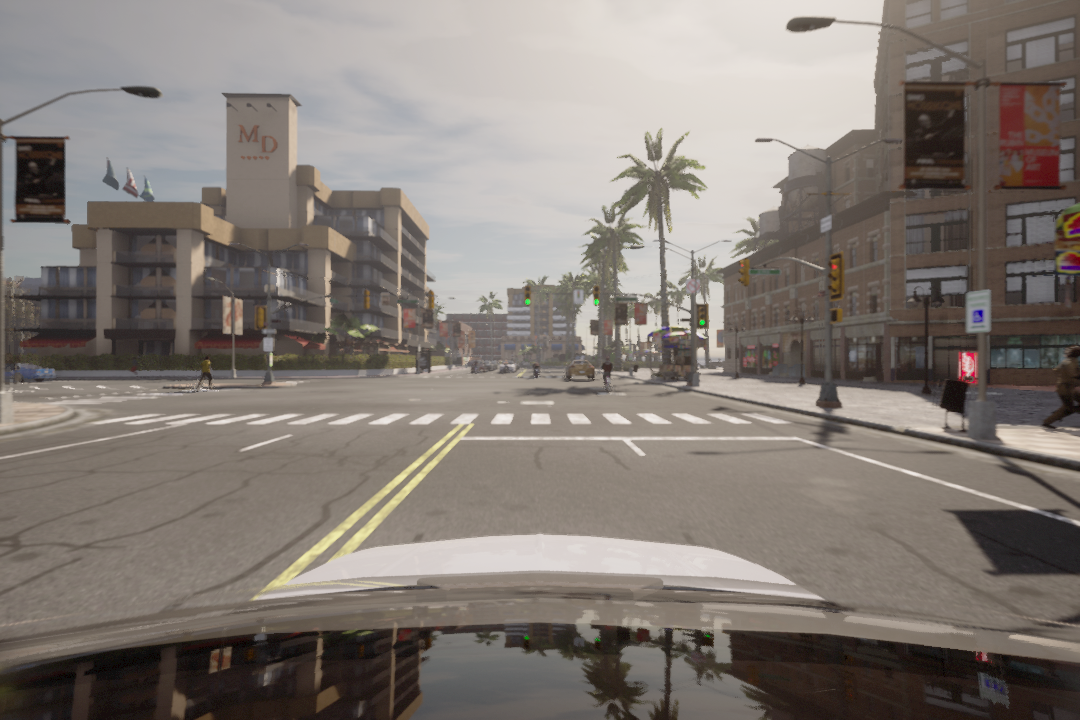TrafficLight: (828, 252, 843, 301), (737, 258, 752, 287), (695, 301, 710, 329), (523, 286, 534, 307), (593, 284, 601, 305)
TrafficSign: (685, 277, 701, 293)
walkside: (87, 411, 818, 430)
